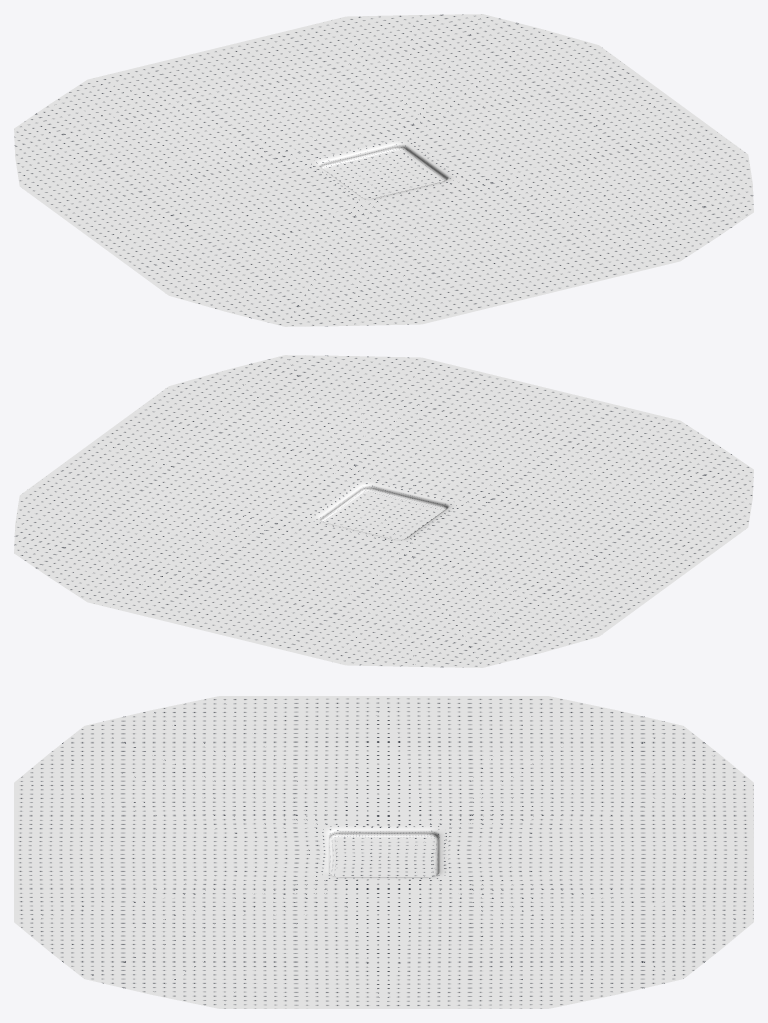
The model's file is texu.fbx.
The picture shows the model from 3 angles, top to bottom: view 1: azimuth 30°, elevation 25°; view 2: azimuth 150°, elevation 25°; view 3: azimuth 270°, elevation 25°; orthographic projection. The views are drawn at different scales.
Visible parts, largest first — view 1: TerrenoDefinitivo; view 2: TerrenoDefinitivo; view 3: TerrenoDefinitivo.
Boxes of the visible parts, x1=… form: TerrenoDefinitivo: x1=14, y1=14, x2=753, y2=326; TerrenoDefinitivo: x1=14, y1=355, x2=753, y2=667; TerrenoDefinitivo: x1=14, y1=696, x2=753, y2=1008.
Bounding box in the file's own units: 6101 × 59.99 × 6101.
Materials: 1 (1 with a texture image).
